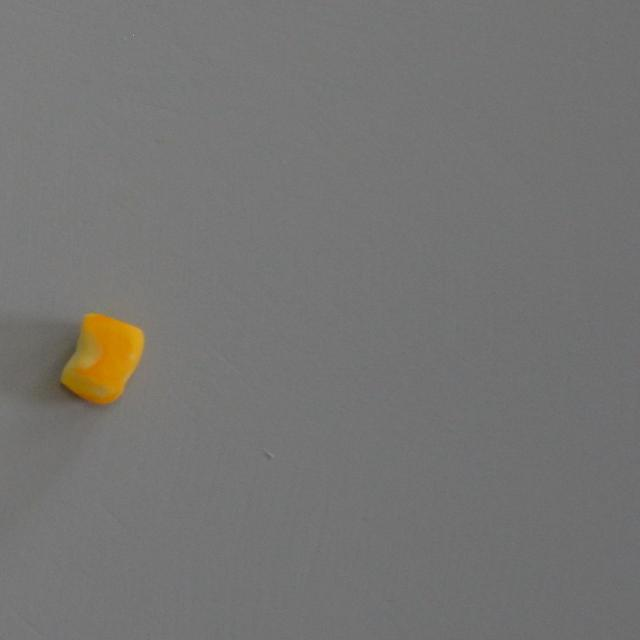no_canjicado: (57, 310, 146, 406)
